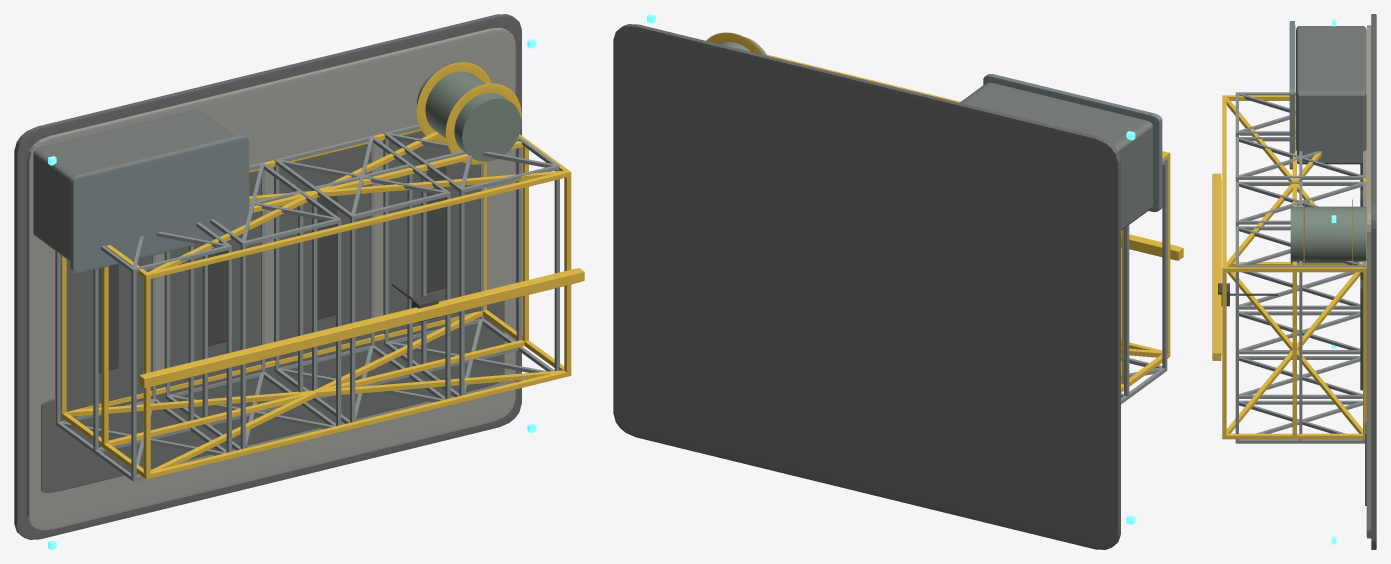
The model's file is b-16-vehicle-depot-lod1.glb.
3 renders of one model, left to right at view 1: azimuth 30°, elevation 25°; view 2: azimuth 150°, elevation 25°; view 3: azimuth 270°, elevation 25°, orthographic. The views are drawn at different scales.
Visible parts, largest first — view 1: foundation_inner_pad, workshop_roof, foundation, service_lane_road, workshop_main_hall, service_bay_floor_2, service_bay_floor_3, service_bay_floor_0, service_crane_bridge, service_bay_floor_1, fuel_tank_vessel, service_crane_beam_x_2_n (+43 smaller); view 2: foundation, workshop_main_hall, workshop_roof, service_bay_frame_0_beam_y_2_w, service_bay_frame_0_beam_y_1_w, service_crane_beam_y_2_w, service_crane_bridge; view 3: workshop_main_hall, fuel_tank_vessel, foundation, foundation_inner_pad, service_crane_bridge, service_crane_brace_a_-3.4, service_crane_brace_b_-3.4, workshop_roof, service_crane_column_e_s, service_crane_beam_x_2_n, service_crane_beam_y_2_e, service_crane_column_e_n (+39 smaller).
Boxes of the visible parts, x1,y1,x2,y2 form: foundation_inner_pad: (26, 27, 515, 530); workshop_roof: (70, 135, 249, 273); foundation: (14, 14, 521, 539); service_lane_road: (41, 301, 504, 492); workshop_main_hall: (33, 110, 234, 261); service_bay_floor_2: (279, 144, 370, 367); service_bay_floor_3: (388, 131, 479, 340); service_bay_floor_0: (60, 255, 151, 420); service_crane_bridge: (139, 268, 584, 387); service_bay_floor_1: (170, 170, 261, 394); fuel_tank_vessel: (417, 66, 521, 161); service_crane_beam_x_2_n: (144, 171, 571, 279); foundation: (613, 24, 1120, 549); workshop_main_hall: (960, 82, 1152, 230); workshop_roof: (983, 74, 1162, 211); service_bay_frame_0_beam_y_2_w: (1162, 158, 1167, 369); service_bay_frame_0_beam_y_1_w: (1124, 225, 1129, 396); service_crane_beam_y_2_w: (1164, 152, 1170, 354); service_crane_bridge: (1121, 232, 1183, 260); workshop_main_hall: (1296, 26, 1366, 164); fuel_tank_vessel: (1290, 206, 1366, 263); foundation: (1371, 14, 1376, 549); foundation_inner_pad: (1366, 25, 1371, 538); service_crane_bridge: (1212, 173, 1221, 360); service_crane_brace_a_-3.4: (1226, 272, 1360, 433); service_crane_brace_b_-3.4: (1227, 272, 1362, 433); workshop_roof: (1289, 21, 1295, 169); service_crane_column_e_s: (1226, 433, 1363, 439); service_crane_beam_x_2_n: (1222, 96, 1226, 272); service_crane_beam_y_2_e: (1222, 267, 1226, 438); service_crane_column_e_n: (1226, 267, 1363, 272).
Size of what is drawn, in the model's own units: 18 by 14 by 6.07.
